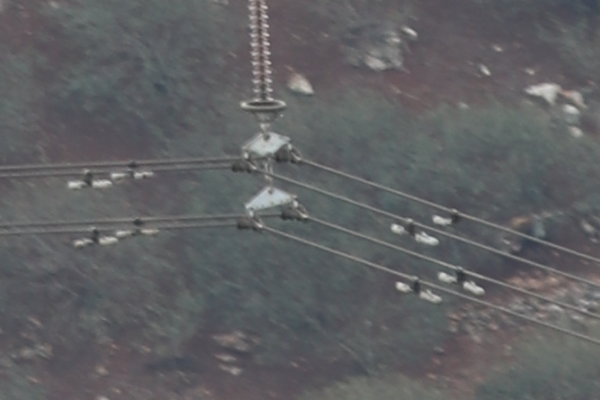damper: (387, 214, 440, 248), (435, 263, 486, 296), (391, 273, 442, 305), (71, 222, 120, 250), (111, 213, 160, 237), (66, 166, 113, 191), (109, 158, 155, 181)
damper_defect: (430, 204, 464, 232)
